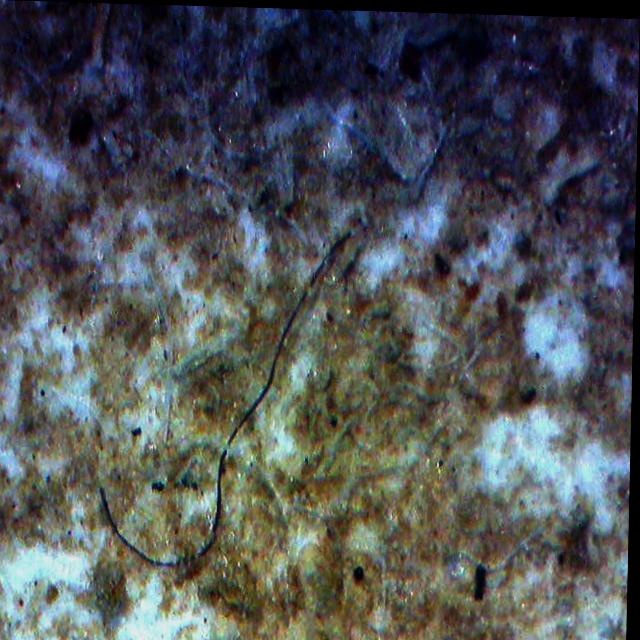microplastic: (101, 227, 356, 565)
